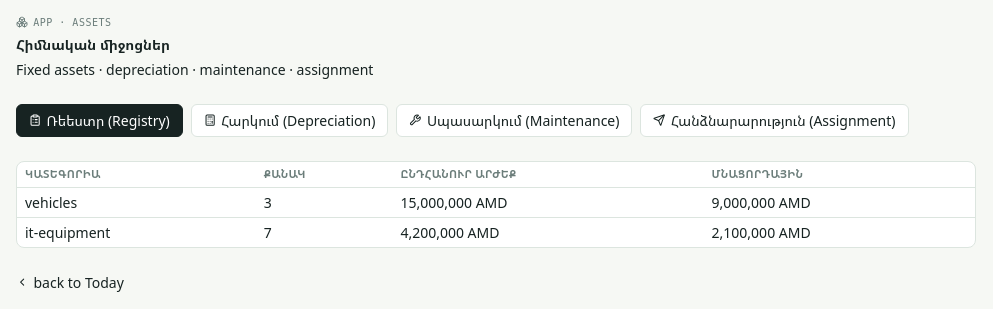
Test: Assets — tab switching › clicking the maintenance tab reveals the assets-maintenance panel
Click the tab with test id "assets-tab-maintenance" at (514, 120), box [396,104,632,137]
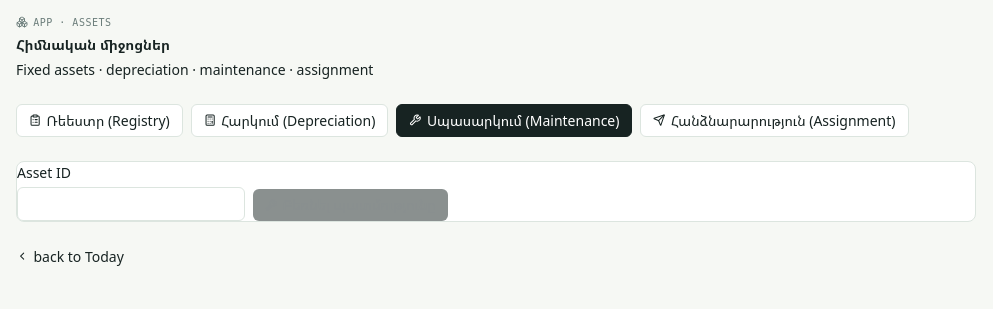
Expected: the element with test id "assets-maintenance" is shown, [17,163,448,220]
